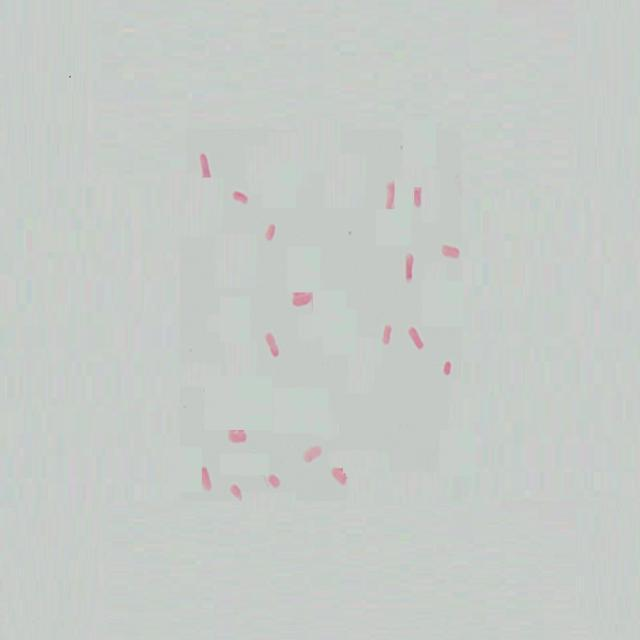E-coli: (198, 148, 212, 182), (440, 244, 464, 263), (330, 462, 346, 490), (230, 186, 250, 208), (199, 467, 214, 496), (264, 332, 278, 360), (409, 324, 423, 352), (403, 252, 416, 282), (301, 443, 320, 463), (291, 291, 313, 307), (379, 322, 392, 349), (384, 180, 396, 209), (440, 357, 455, 378), (228, 484, 242, 506), (228, 427, 246, 444), (265, 221, 277, 244), (267, 472, 281, 491), (412, 186, 423, 208)
